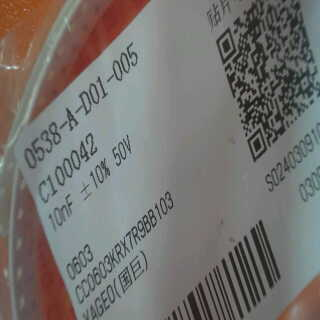10nF: (41, 191, 77, 228)
